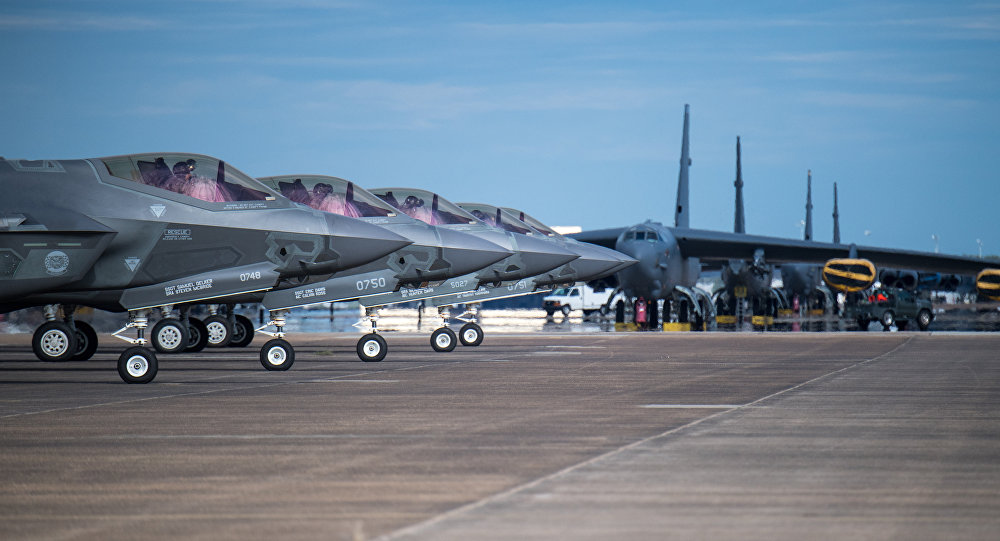F-35 Lightning: (19, 124, 416, 396), (276, 160, 517, 358), (383, 174, 588, 322)
